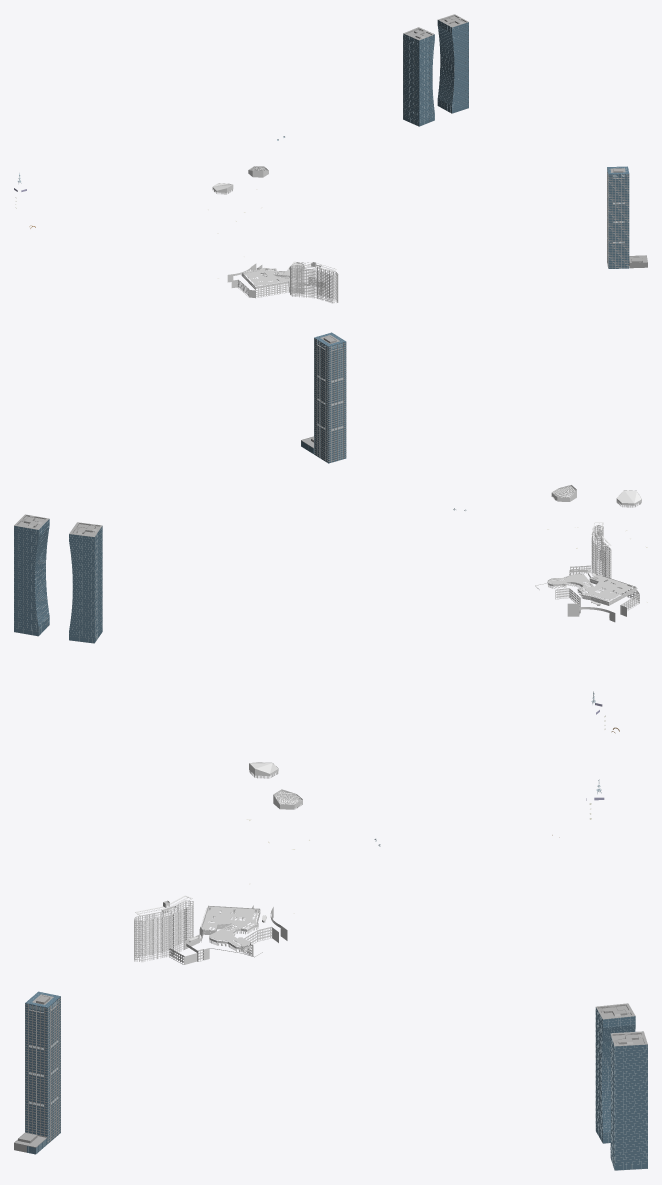
File: lujiazui-21.glb
The picture shows the model from 3 angles, top to bottom: view 1: azimuth 30°, elevation 25°; view 2: azimuth 150°, elevation 25°; view 3: azimuth 270°, elevation 25°; orthographic projection. The views are drawn at different scales.
Visible parts, largest first — view 1: source_2890_Mat3d66-1303573-2170-3213_part0, source_2883_Mat3d66-1303573-263-9863_part0, source_2902_Mat3d66-1303573-2170-3213_part0, source_2895_Mat3d66-1303573-2153-4388_part0, source_2892_Mat3d66-1303573-2119-613_part0, source_2885_Mat3d66-1303573-2050-6500_part0; view 2: source_2890_Mat3d66-1303573-2170-3213_part0, source_2902_Mat3d66-1303573-2170-3213_part0, source_2883_Mat3d66-1303573-263-9863_part0, source_2895_Mat3d66-1303573-2153-4388_part0, source_2892_Mat3d66-1303573-2119-613_part0, source_2885_Mat3d66-1303573-2050-6500_part0, source_2898_Mat3d66-1303573-2119-613_part0, source_2891_Mat3d66-1303573-2048-6564_part0; view 3: source_2890_Mat3d66-1303573-2170-3213_part0, source_2883_Mat3d66-1303573-263-9863_part0, source_2902_Mat3d66-1303573-2170-3213_part0, source_2895_Mat3d66-1303573-2153-4388_part0, source_2892_Mat3d66-1303573-2119-613_part0, source_2885_Mat3d66-1303573-2050-6500_part0, source_2898_Mat3d66-1303573-2119-613_part0, source_2891_Mat3d66-1303573-2048-6564_part0.
Boxes of the visible parts, bbox=[...] form: source_2890_Mat3d66-1303573-2170-3213_part0: bbox=[403, 20, 468, 126]; source_2883_Mat3d66-1303573-263-9863_part0: bbox=[212, 166, 338, 303]; source_2902_Mat3d66-1303573-2170-3213_part0: bbox=[607, 166, 629, 268]; source_2895_Mat3d66-1303573-2153-4388_part0: bbox=[607, 168, 647, 268]; source_2892_Mat3d66-1303573-2119-613_part0: bbox=[403, 24, 468, 125]; source_2885_Mat3d66-1303573-2050-6500_part0: bbox=[244, 263, 302, 286]; source_2890_Mat3d66-1303573-2170-3213_part0: bbox=[14, 519, 102, 643]; source_2902_Mat3d66-1303573-2170-3213_part0: bbox=[301, 332, 346, 463]; source_2883_Mat3d66-1303573-263-9863_part0: bbox=[535, 484, 641, 622]; source_2895_Mat3d66-1303573-2153-4388_part0: bbox=[301, 339, 346, 462]; source_2892_Mat3d66-1303573-2119-613_part0: bbox=[14, 521, 102, 643]; source_2885_Mat3d66-1303573-2050-6500_part0: bbox=[549, 574, 633, 600]; source_2898_Mat3d66-1303573-2119-613_part0: bbox=[301, 334, 342, 462]; source_2891_Mat3d66-1303573-2048-6564_part0: bbox=[14, 514, 102, 642]; source_2890_Mat3d66-1303573-2170-3213_part0: bbox=[595, 1008, 647, 1170]; source_2883_Mat3d66-1303573-263-9863_part0: bbox=[134, 762, 302, 964]; source_2902_Mat3d66-1303573-2170-3213_part0: bbox=[25, 991, 60, 1154]; source_2895_Mat3d66-1303573-2153-4388_part0: bbox=[14, 995, 60, 1152]; source_2892_Mat3d66-1303573-2119-613_part0: bbox=[595, 1007, 647, 1170]; source_2885_Mat3d66-1303573-2050-6500_part0: bbox=[201, 906, 258, 946]; source_2898_Mat3d66-1303573-2119-613_part0: bbox=[25, 992, 60, 1153]; source_2891_Mat3d66-1303573-2048-6564_part0: bbox=[596, 1003, 647, 1170].
Bounding box in the file's own units: 1133 × 241 × 935.
